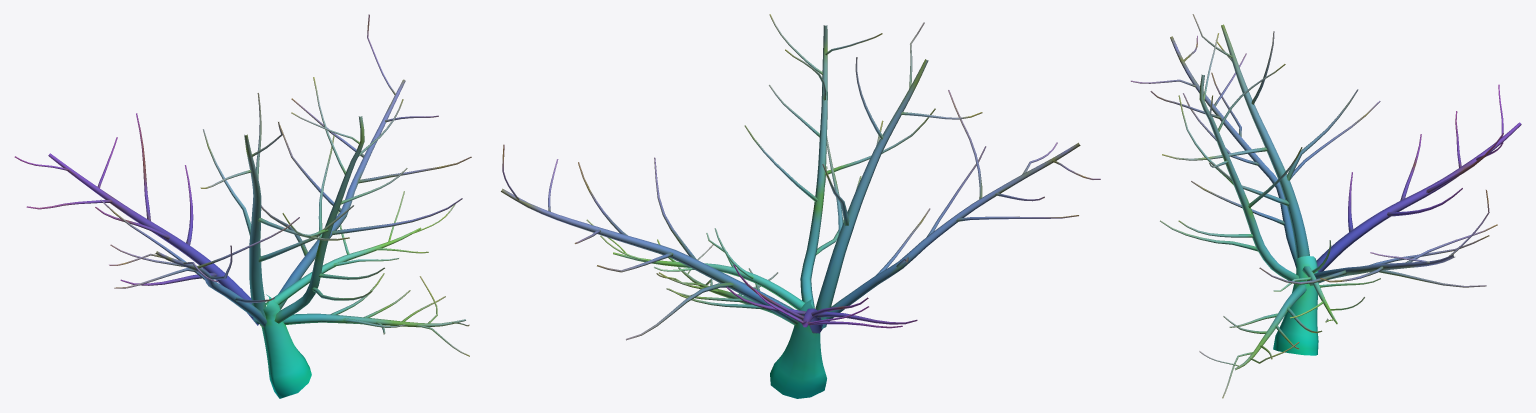
The model's file is sakura-grove-c.glb.
3 views of the same model, side by side, from view 1: azimuth 30°, elevation 25°; view 2: azimuth 150°, elevation 25°; view 3: azimuth 270°, elevation 25° (orthographic). The views are drawn at different scales.
Visible parts, largest first — view 1: bark; view 2: bark; view 3: bark.
Part boxes in pixels (left/top/right/bottom): bark: left=14, top=14, right=471, bottom=398; bark: left=501, top=14, right=1100, bottom=398; bark: left=1130, top=14, right=1521, bottom=398.
Bounding box in the file's own units: 10.16 × 7.31 × 8.27.
